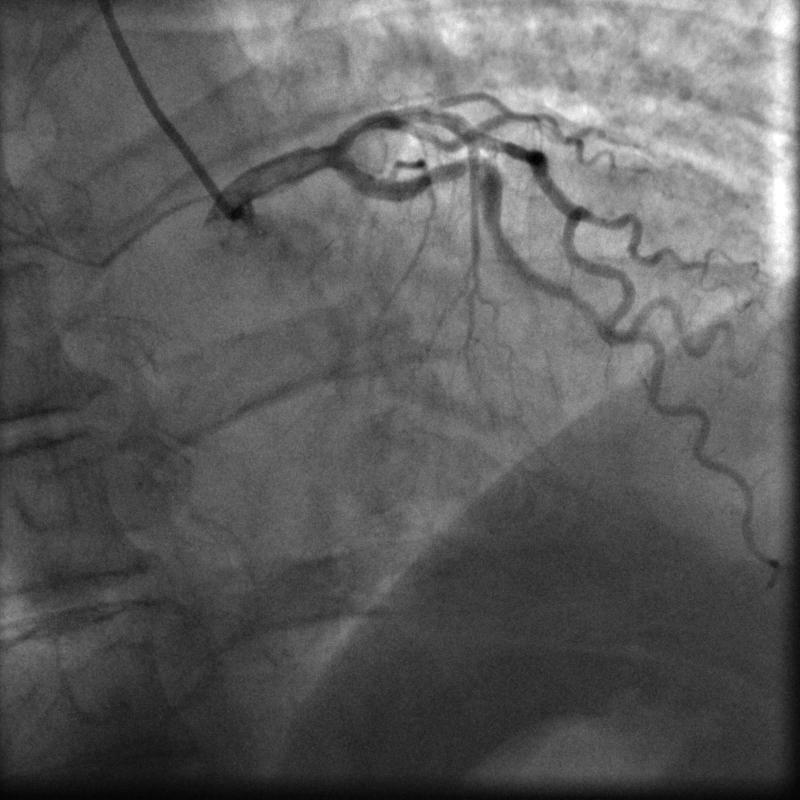Stenosis: (436, 151, 489, 179)
